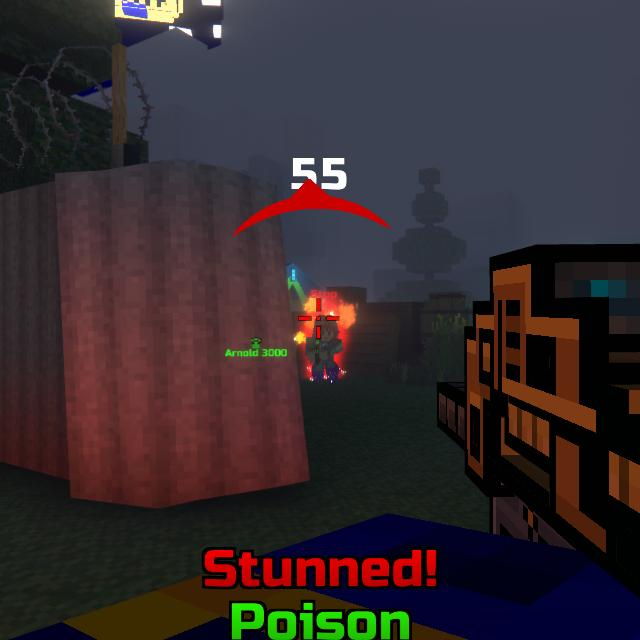Enemy: (306, 314, 344, 380)
